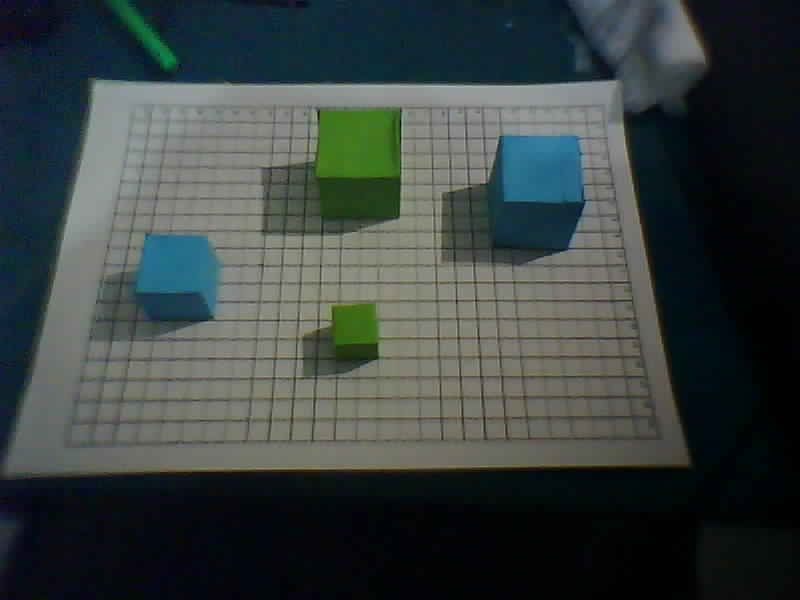LB: (63, 441, 71, 447)
LT: (130, 102, 138, 108)
RB: (654, 434, 662, 440)
RT: (597, 103, 605, 109)
